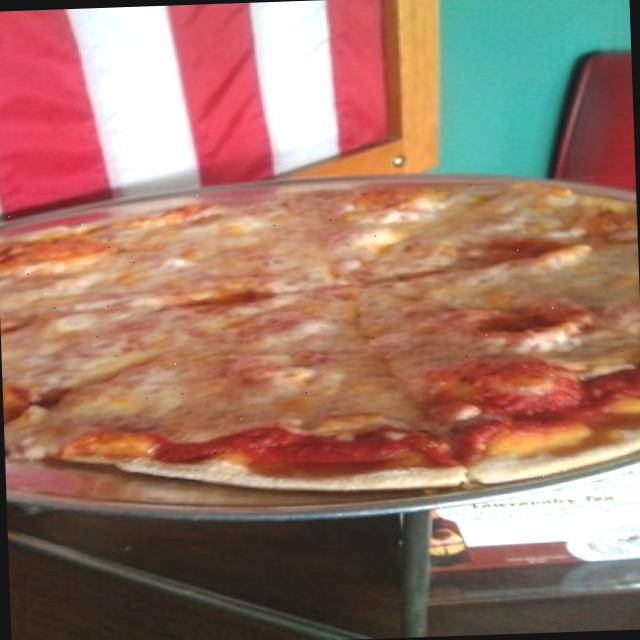pizza: (0, 182, 640, 491)
